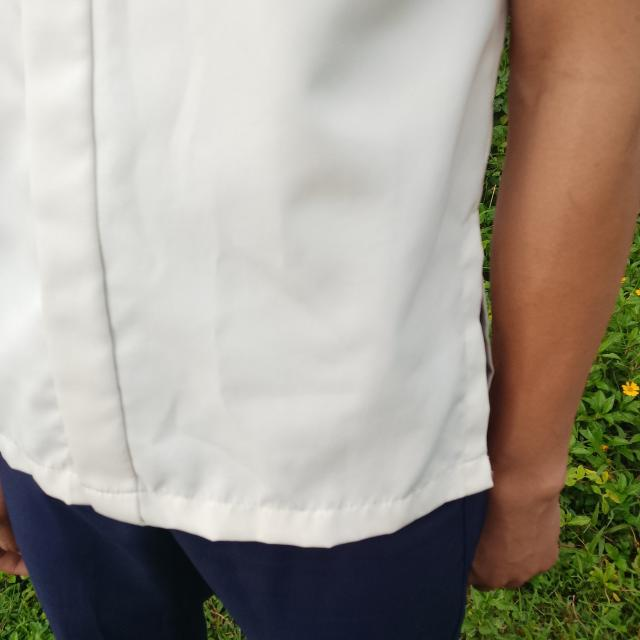education_male_uniform: (0, 0, 510, 581)
